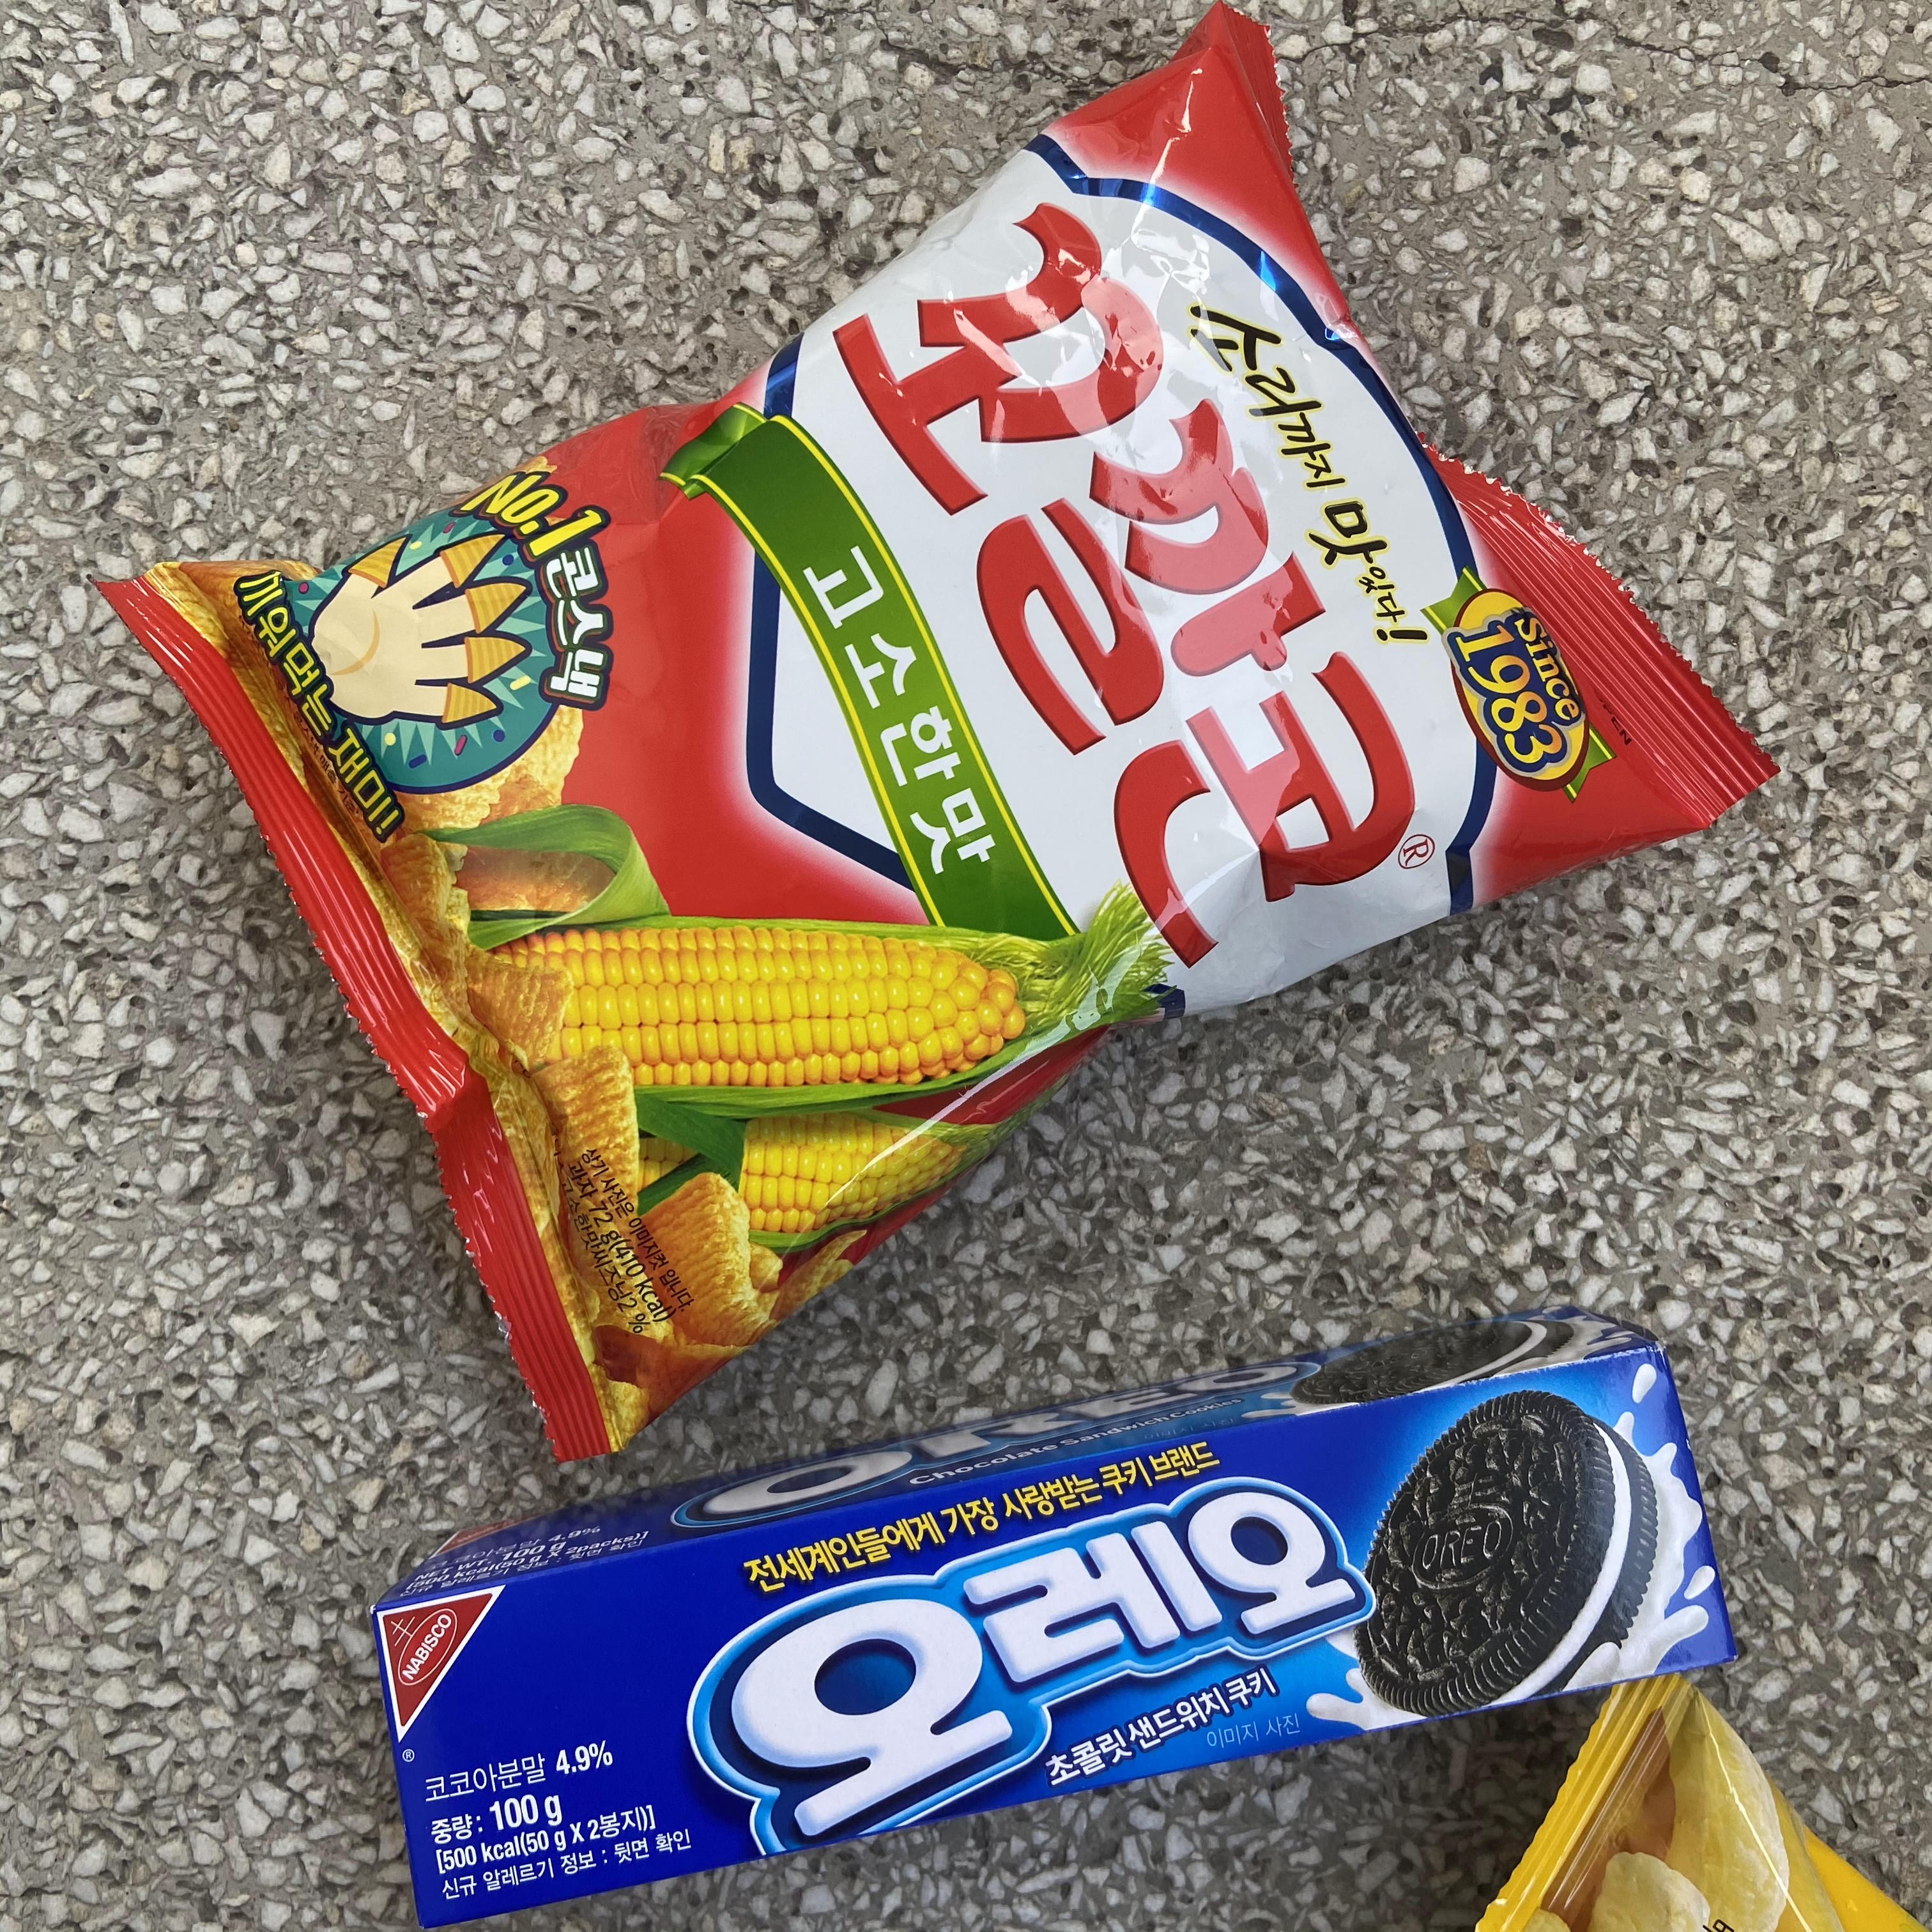ggoggalcon: (65, 0, 1789, 1486)
oreo: (357, 1297, 1755, 1932)
